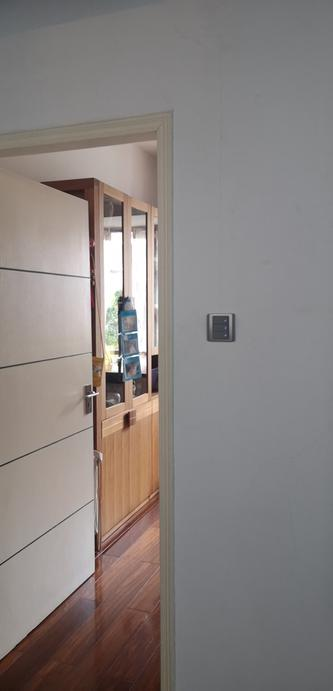switch: (212, 316, 230, 325), (211, 325, 230, 332), (209, 333, 230, 339)
